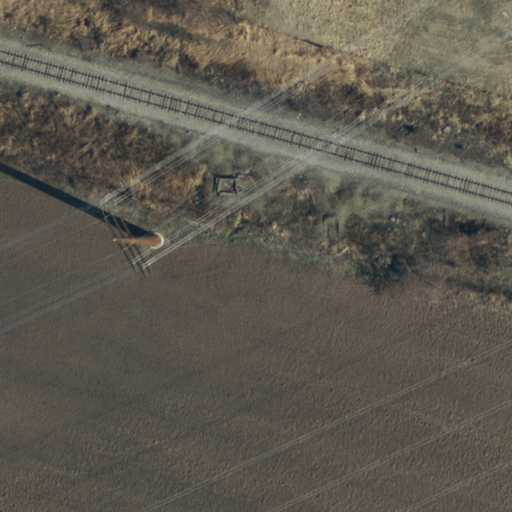TT: (95, 199, 169, 280)
